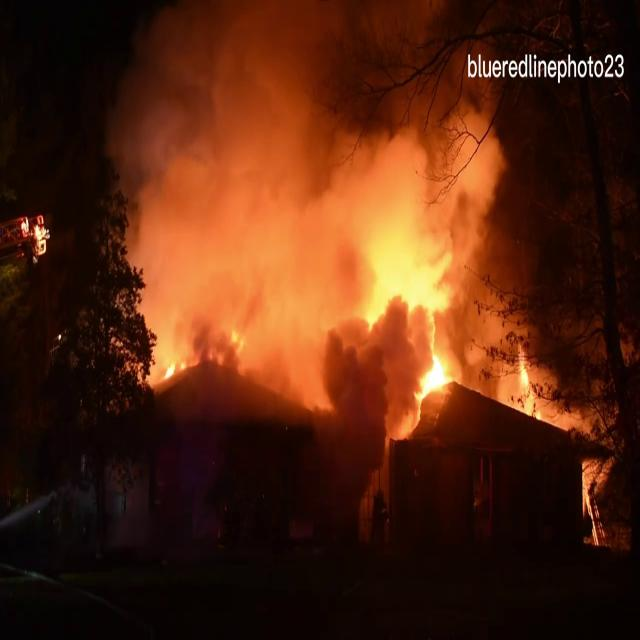Fire: (152, 180, 546, 431)
Smoke: (105, 0, 570, 257)
